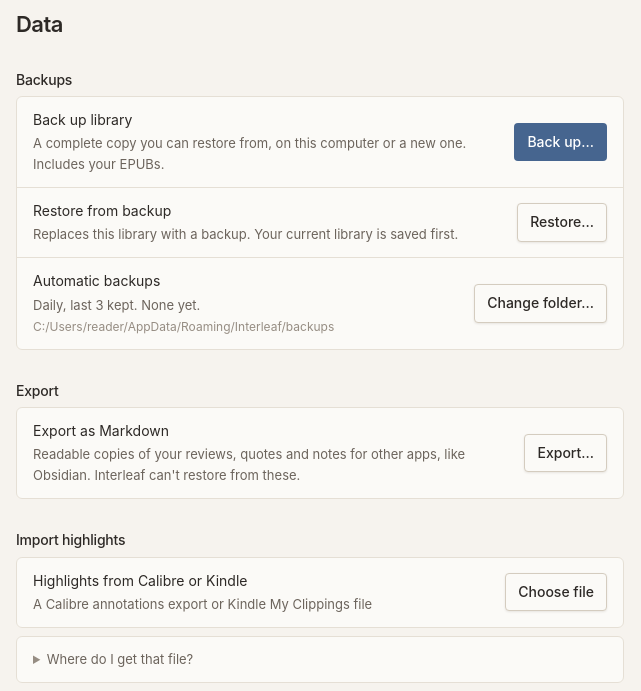
Test: the Data screen › shows where automatic backups go, and lets that folder change and change back
Expected: the text "C:/Users/reader/AppData/Roaming/Interleaf/backups" is shown, [33, 317, 334, 337]
Expected: the button "Use default folder" is not shown
What coordinates should you click on to do the following:
click the button "Change folder…"
I would click on:
 (541, 303)
Its box is [474, 284, 607, 323].
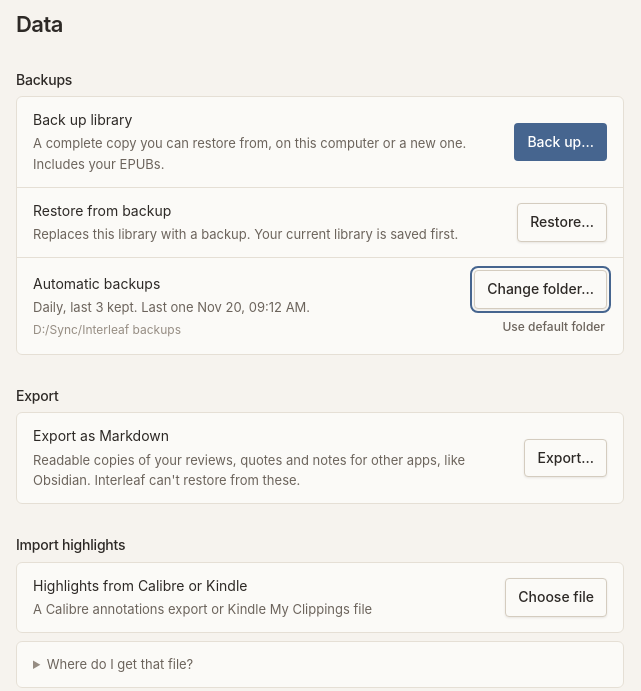
Expected: the text "D:/Sync/Interleaf backups" is shown, [33, 322, 181, 337]
Expected: the button "Use default folder" is enabled
What coordinates should you click on to do the following:
click the button "Use default folder"
I would click on:
 (554, 326)
Its box is [492, 311, 615, 342].
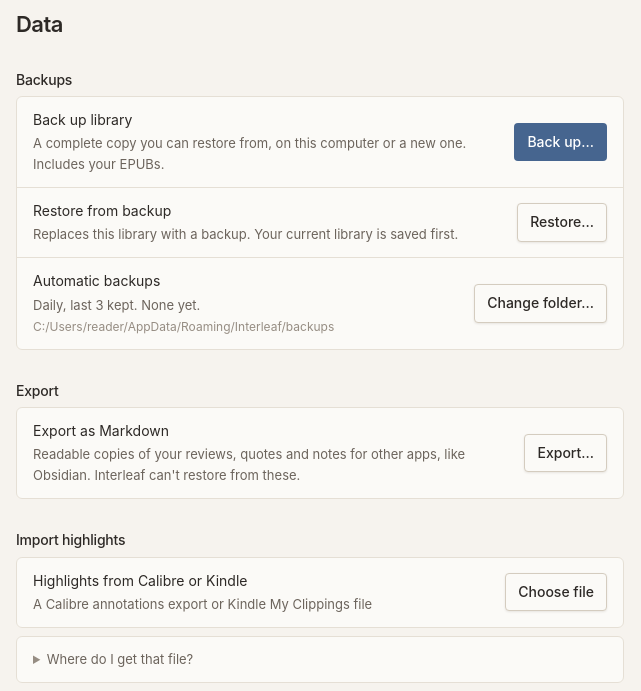
Expected: the text "C:/Users/reader/AppData/Roaming/Interleaf/backups" is shown, [33, 317, 334, 337]
